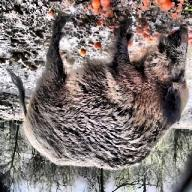boar: (7, 17, 190, 171)
